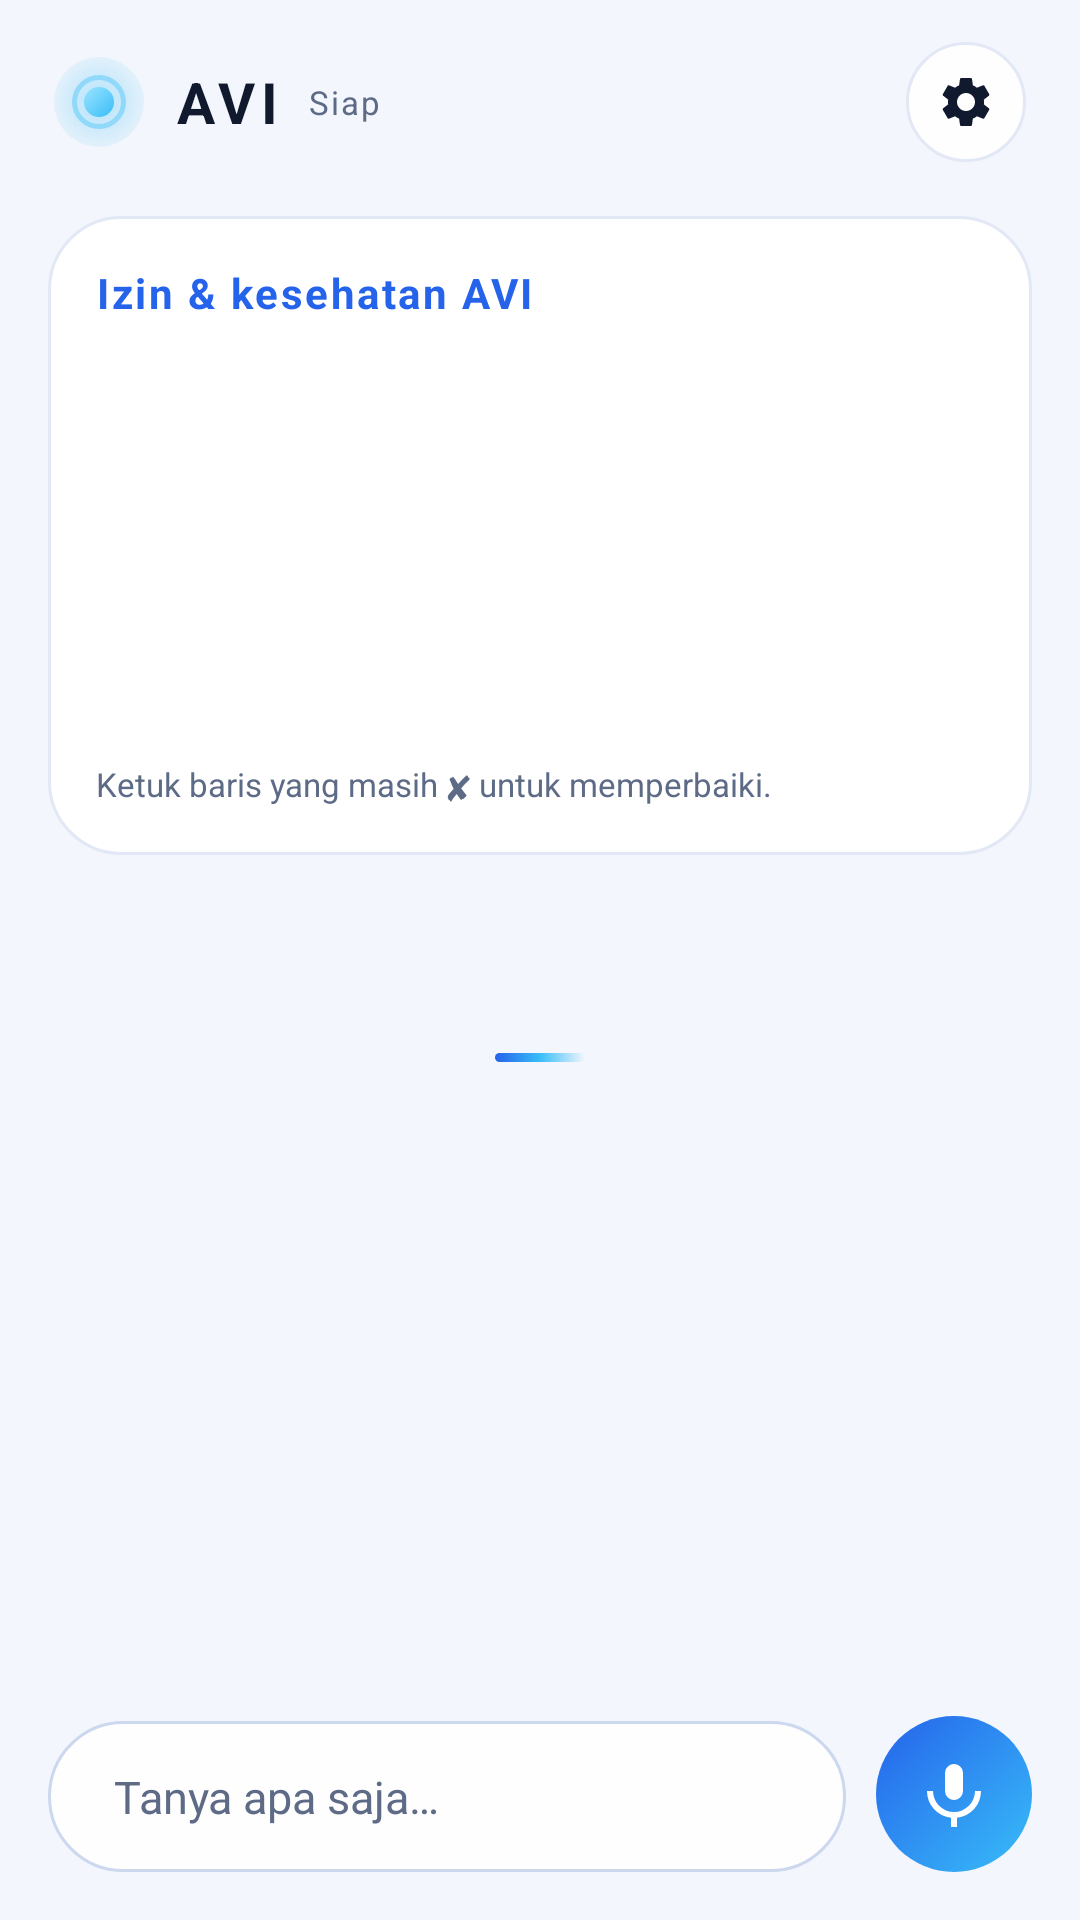

Where icons sit on this 1080 × 1920 app screen, as (x1, y1, x2, y2):
Kirim / Mode Live: (876, 1716, 1032, 1872)
Pengaturan: (942, 78, 990, 126)
